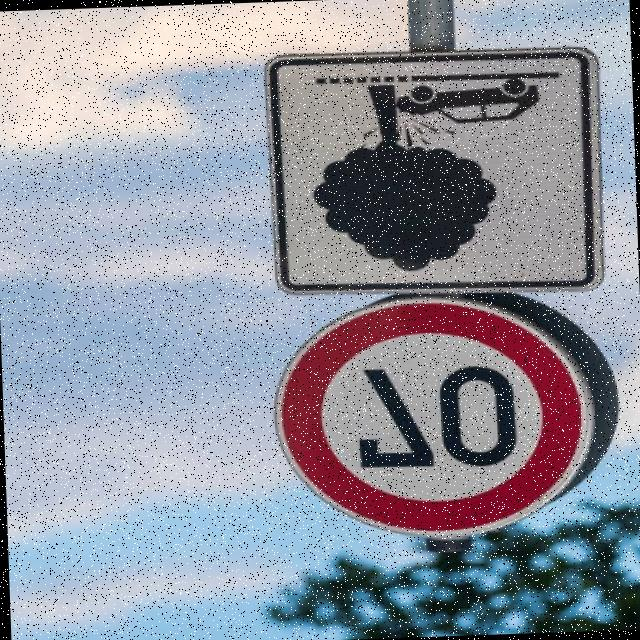speed_limit_70: (254, 288, 601, 550)
